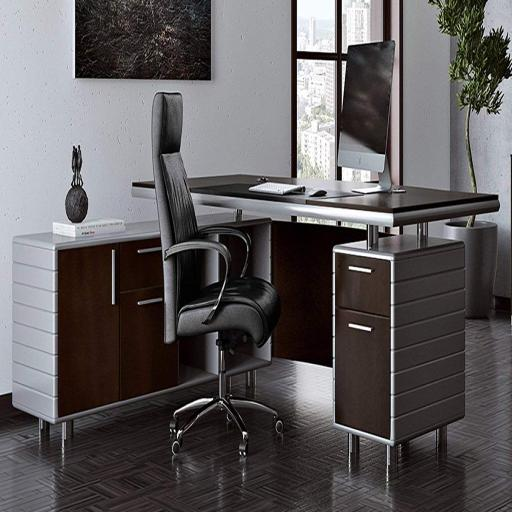chair: (150, 92, 284, 458)
desk: (130, 172, 502, 476)
wall: (0, 0, 290, 415)
